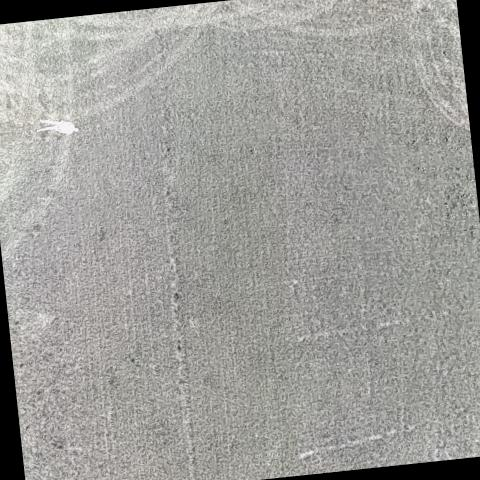person: (34, 114, 80, 138)
